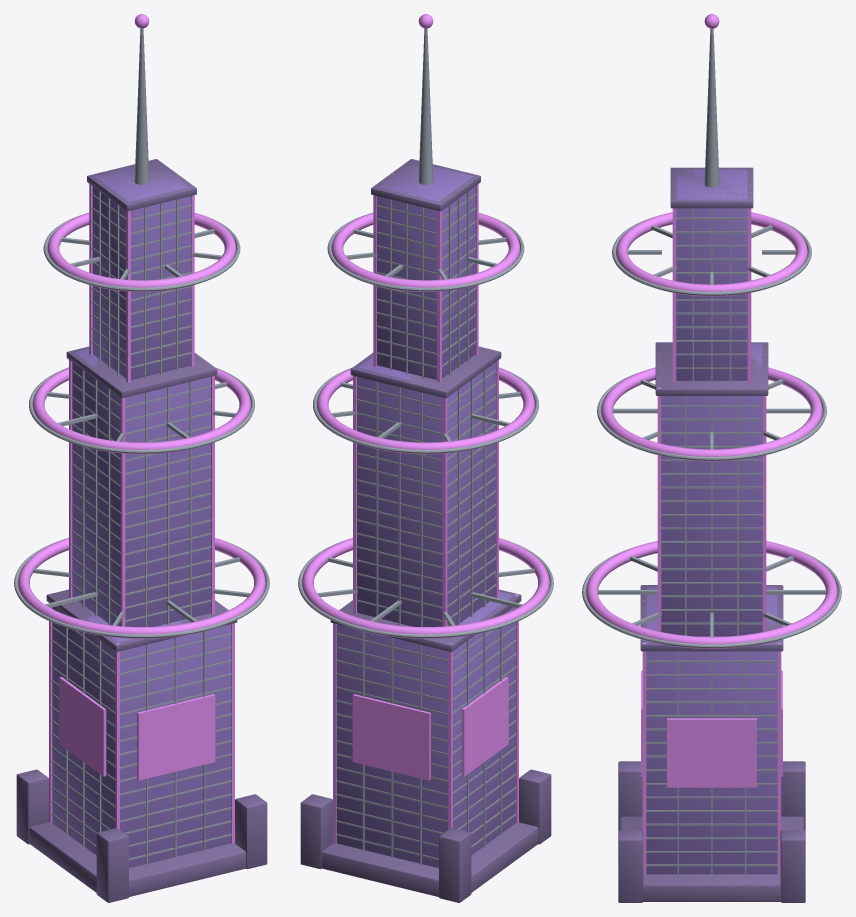
File: TorreAnillos.fbx
The picture shows the model from 3 angles, left to right: view 1: azimuth 30°, elevation 25°; view 2: azimuth 150°, elevation 25°; view 3: azimuth 270°, elevation 25°; orthographic projection.
Visible parts, largest first — view 1: TorreAnillos_Cristal, TorreAnillos_Metal, TorreAnillos_Luz, TorreAnillos_Cuerpo; view 2: TorreAnillos_Cristal, TorreAnillos_Metal, TorreAnillos_Luz, TorreAnillos_Cuerpo; view 3: TorreAnillos_Cristal, TorreAnillos_Luz, TorreAnillos_Metal, TorreAnillos_Cuerpo.
Part boxes in pixels (box(x1,y1,x2,y2)): TorreAnillos_Cristal: box(52, 166, 231, 868); TorreAnillos_Metal: box(14, 28, 269, 864); TorreAnillos_Luz: box(18, 14, 265, 843); TorreAnillos_Cuerpo: box(16, 159, 267, 902); TorreAnillos_Cristal: box(336, 162, 515, 868); TorreAnillos_Metal: box(298, 28, 553, 864); TorreAnillos_Luz: box(302, 14, 549, 843); TorreAnillos_Cuerpo: box(300, 159, 551, 902); TorreAnillos_Cristal: box(646, 169, 777, 874); TorreAnillos_Luz: box(586, 14, 837, 874); TorreAnillos_Metal: box(582, 29, 841, 874); TorreAnillos_Cuerpo: box(618, 167, 805, 902).
Size of the model in its own units: 10400 by 37500 by 10400.
